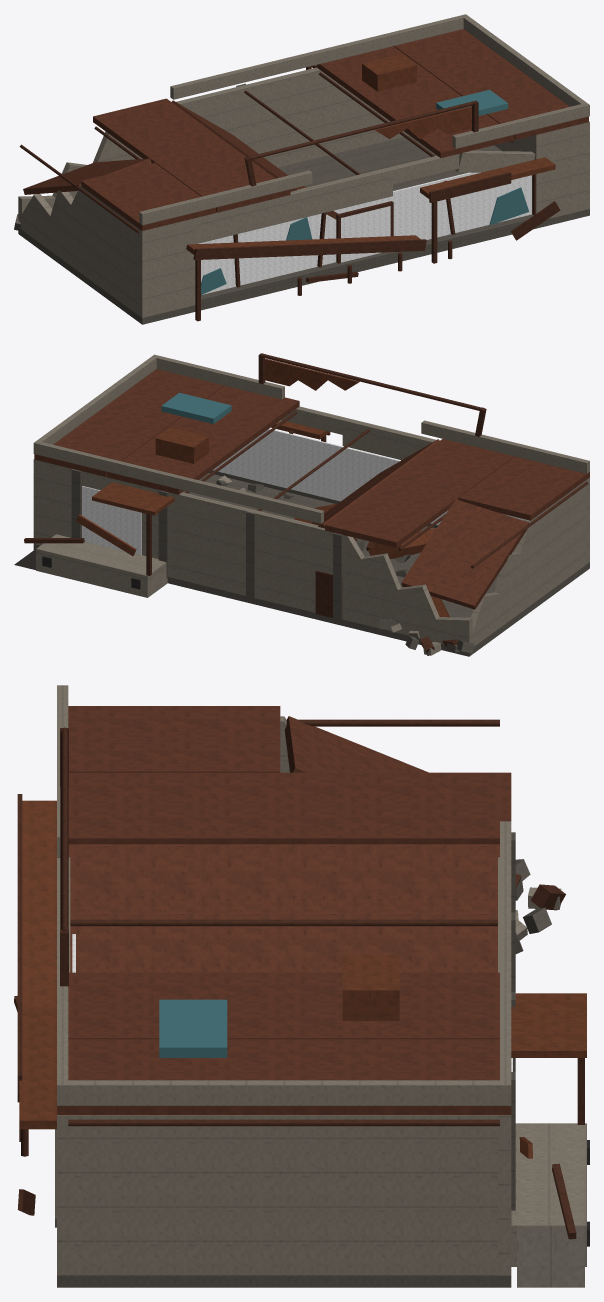
The picture shows the model from 3 angles, top to bottom: view 1: azimuth 30°, elevation 25°; view 2: azimuth 150°, elevation 25°; view 3: azimuth 270°, elevation 25°; orthographic projection. The views are drawn at different scales.
Parts seen in each view (by area): view 1: site_supermarket_ruin; view 2: site_supermarket_ruin; view 3: site_supermarket_ruin.
Boxes of the visible parts, left/top/right/bottom form: site_supermarket_ruin: left=14, top=14, right=589, bottom=324; site_supermarket_ruin: left=14, top=353, right=589, bottom=656; site_supermarket_ruin: left=14, top=685, right=589, bottom=1287.
Size of the model in its own units: 25.34 by 7.51 by 15.22.
8 materials, 8 textured.
